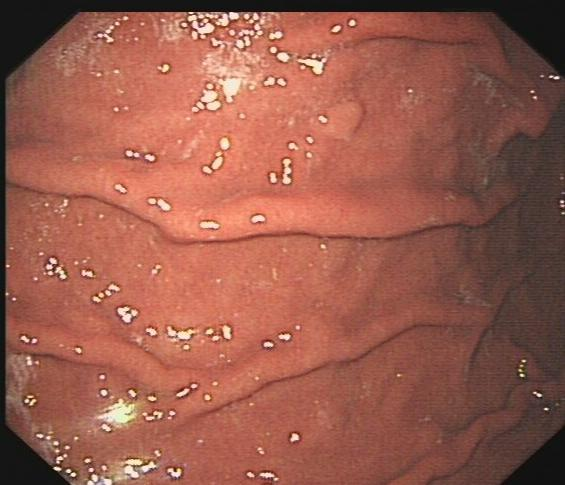Polyp: (311, 93, 366, 143)
